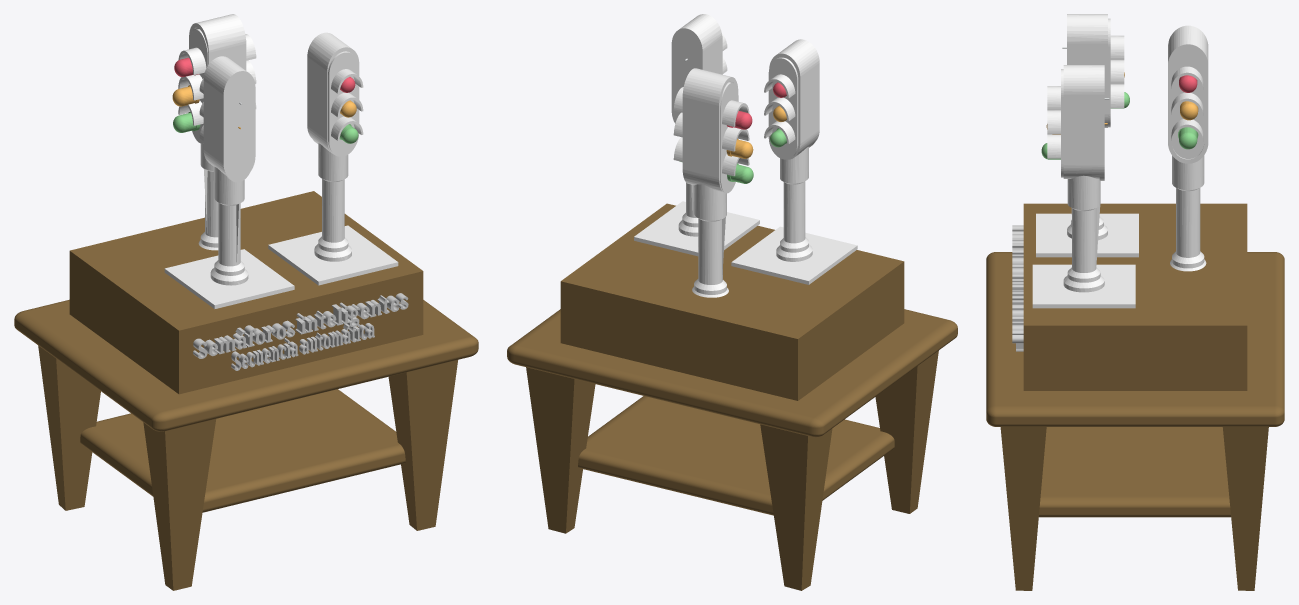
The model's file is semaforos.glb.
3 views of the same model, side by side, from view 1: azimuth 30°, elevation 25°; view 2: azimuth 150°, elevation 25°; view 3: azimuth 270°, elevation 25° (orthographic). The views are drawn at different scales.
Visible parts, largest first — view 1: Mesh_Mesh_head_geo.001_lambert2SG.001, Mesh_Mesh_head_geo.001_lambert2SG.003, Mesh_Mesh_head_geo.001_lambert2SG.004, Mesh_Mesh_head_geo.001_lambert2SG.002; view 2: Mesh_Mesh_head_geo.001_lambert2SG.001, Mesh_Mesh_head_geo.001_lambert2SG.003, Mesh_Mesh_head_geo.001_lambert2SG.002, Mesh_Mesh_head_geo.001_lambert2SG.004; view 3: Mesh_Mesh_head_geo.001_lambert2SG.001, Mesh_Mesh_head_geo.001_lambert2SG.004, Mesh_Mesh_head_geo.001_lambert2SG.002, Mesh_Mesh_head_geo.001_lambert2SG.003.
Part boxes in pixels (<box>): Mesh_Mesh_head_geo.001_lambert2SG.001: <box>14,191,478,590</box>; Mesh_Mesh_head_geo.001_lambert2SG.003: <box>164,56,294,308</box>; Mesh_Mesh_head_geo.001_lambert2SG.004: <box>268,32,398,285</box>; Mesh_Mesh_head_geo.001_lambert2SG.002: <box>172,14,256,250</box>; Mesh_Mesh_head_geo.001_lambert2SG.001: <box>507,203,957,590</box>; Mesh_Mesh_head_geo.001_lambert2SG.003: <box>731,39,857,284</box>; Mesh_Mesh_head_geo.001_lambert2SG.002: <box>673,68,753,297</box>; Mesh_Mesh_head_geo.001_lambert2SG.004: <box>634,14,759,256</box>; Mesh_Mesh_head_geo.001_lambert2SG.001: <box>986,203,1284,590</box>; Mesh_Mesh_head_geo.001_lambert2SG.004: <box>1032,65,1135,308</box>; Mesh_Mesh_head_geo.001_lambert2SG.002: <box>1168,25,1208,271</box>; Mesh_Mesh_head_geo.001_lambert2SG.003: <box>1036,14,1138,257</box>.
Size of the model in its own units: 4.82 by 6.77 by 3.74.
